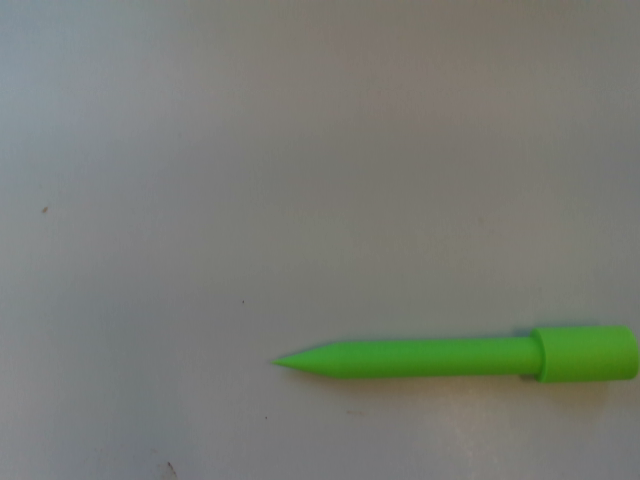Probe: (259, 315, 640, 389)
